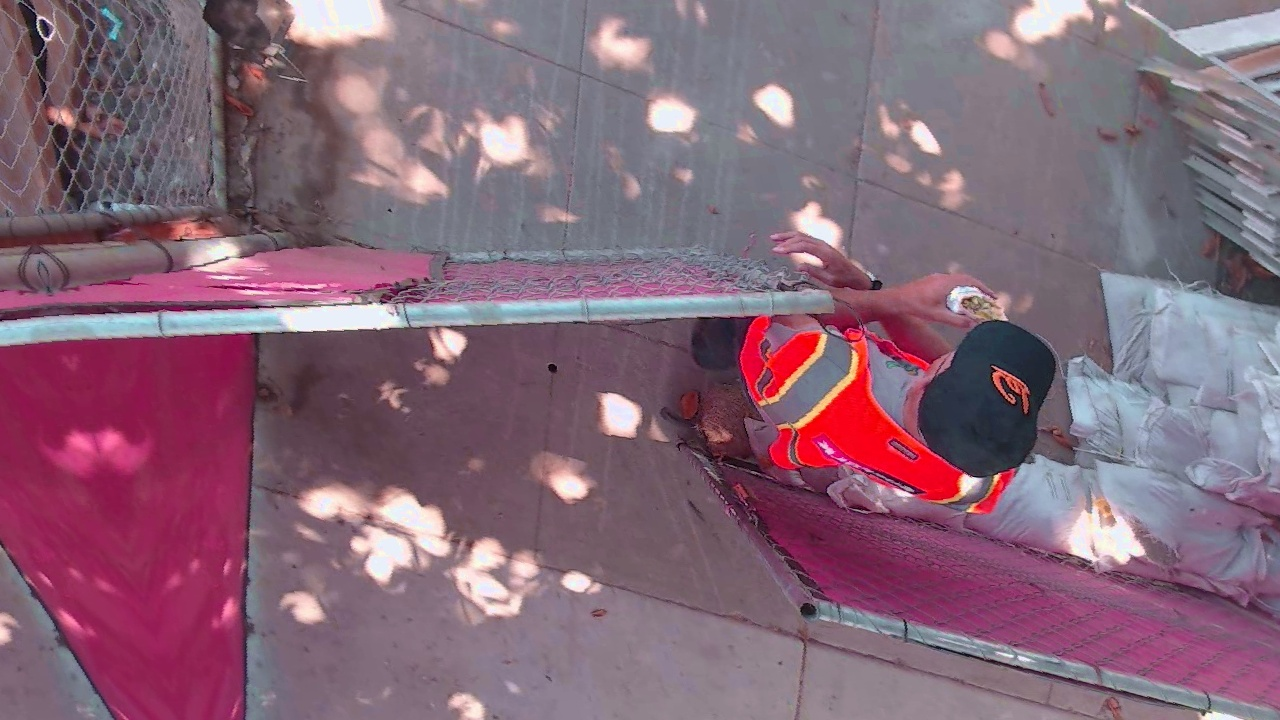hardhat: (200, 418, 362, 601)
person: (270, 290, 593, 618)
safetyvest: (288, 456, 509, 614)
